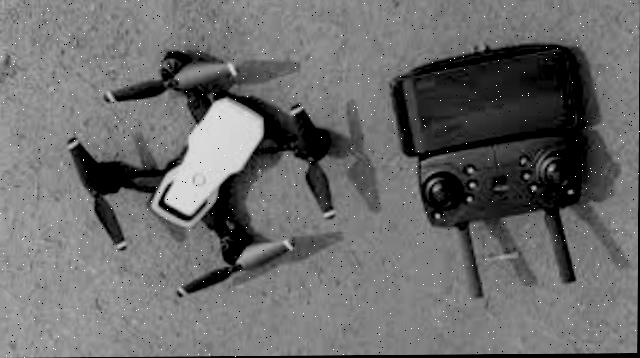drone: (42, 48, 358, 304)
